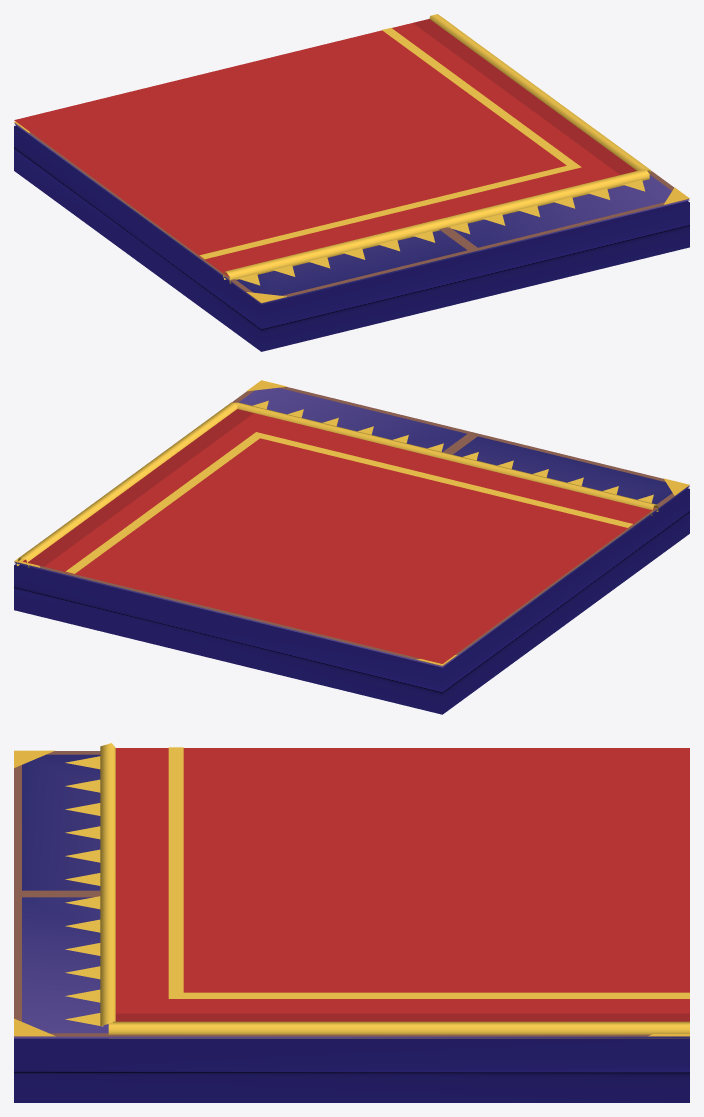
The model's file is tile_red_carpet_r_end.glb.
3 renders of one model, top to bottom at view 1: azimuth 30°, elevation 25°; view 2: azimuth 150°, elevation 25°; view 3: azimuth 270°, elevation 25°, orthographic. The views are drawn at different scales.
Parts seen in each view (by area): view 1: Tile.001; view 2: Tile.001; view 3: Tile.001.
Part boxes in pixels (box(x1,y1,x2,y2)): Tile.001: box(14, 14, 689, 351); Tile.001: box(14, 380, 689, 714); Tile.001: box(14, 743, 689, 1102).
Bounding box in the file's own units: 1 × 0.1213 × 1.
